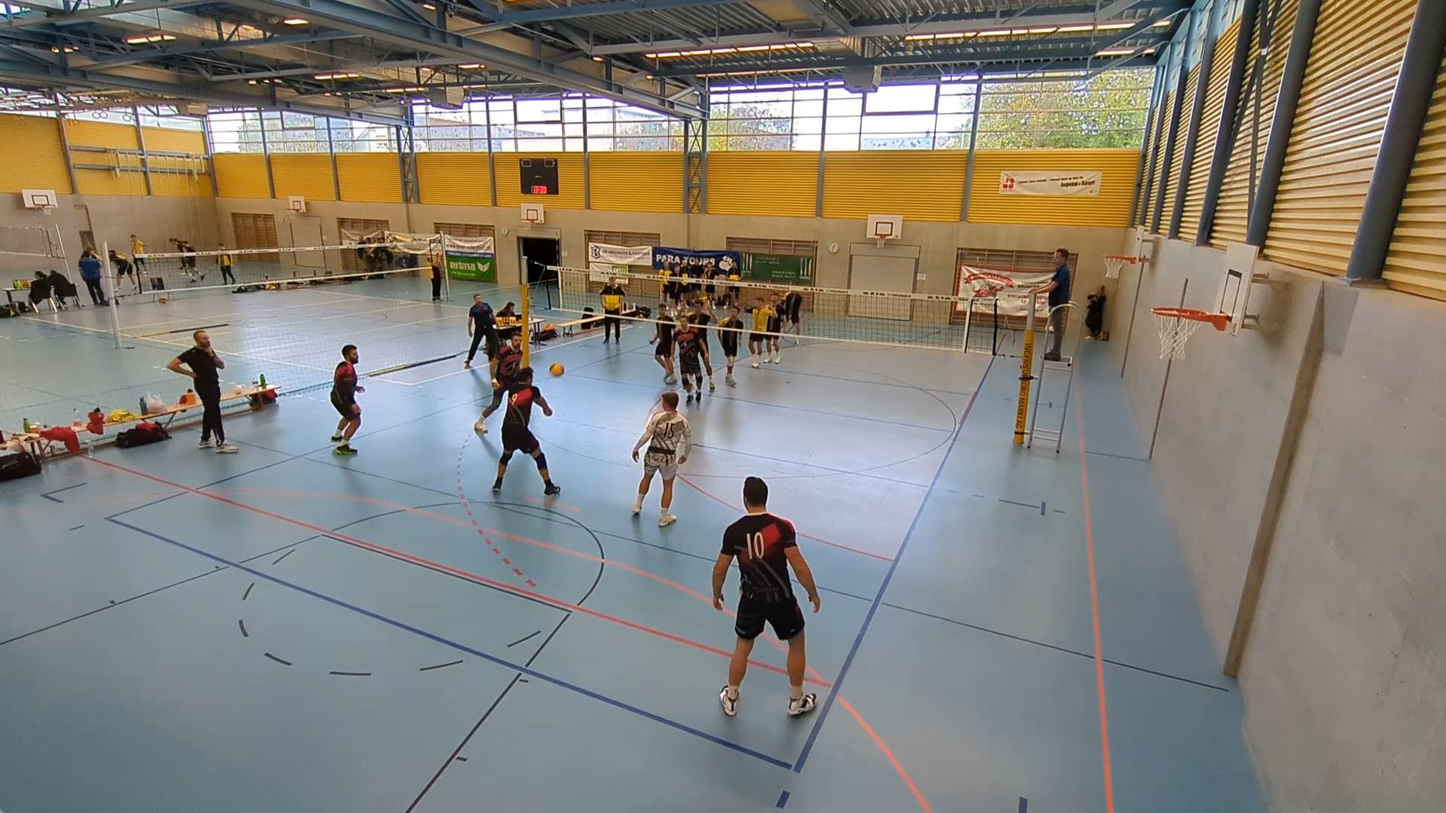ricezione: (488, 365, 564, 500)
